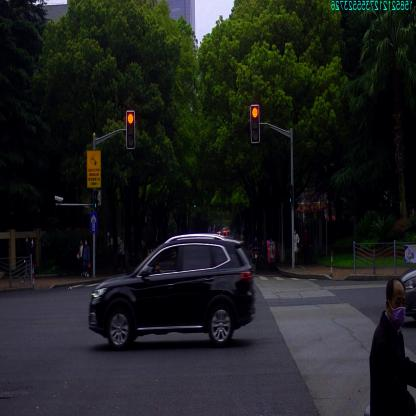traffic-light: (127, 111, 135, 148), (251, 105, 259, 142)
